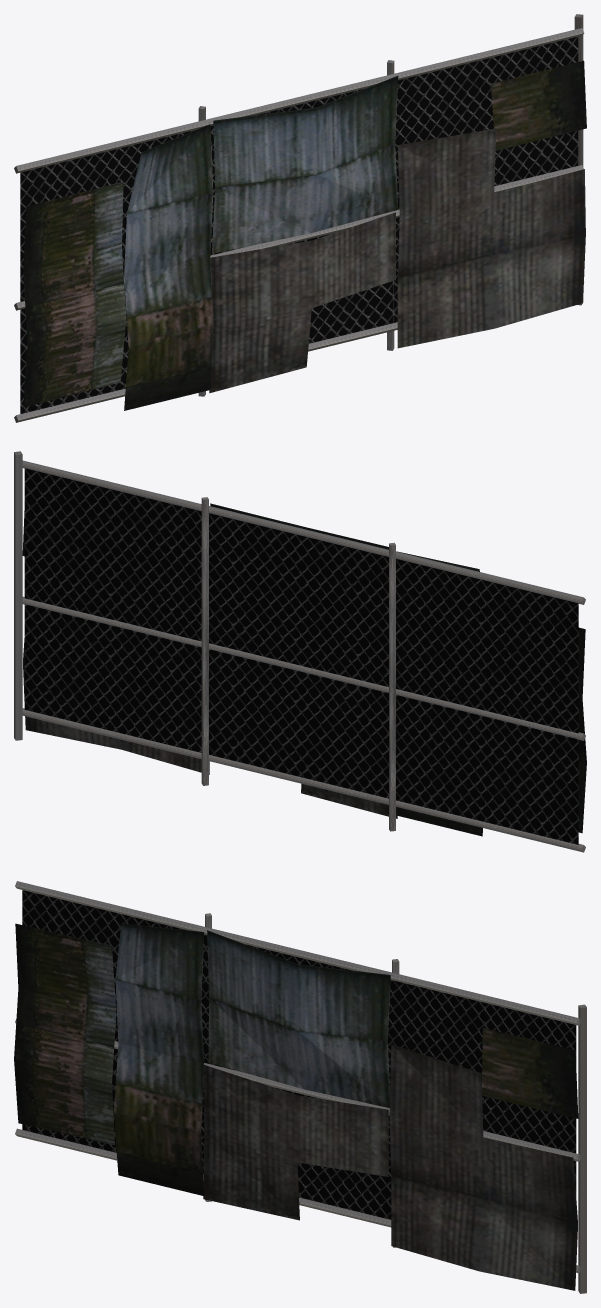
The model's file is dyn_mesh_4.obj.
The picture shows the model from 3 angles, top to bottom: view 1: azimuth 30°, elevation 25°; view 2: azimuth 150°, elevation 25°; view 3: azimuth 330°, elevation 25°; orthographic projection.
Parts seen in each view (by area): view 1: DYN_MESH_4; view 2: DYN_MESH_4; view 3: DYN_MESH_4.
Boxes of the visible parts, box(x1,y1,x2,y2) form: DYN_MESH_4: box(14, 14, 586, 422); DYN_MESH_4: box(14, 451, 586, 852); DYN_MESH_4: box(14, 881, 586, 1293).
Size of the model in its own units: 5.32 by 2.56 by 0.2577.
